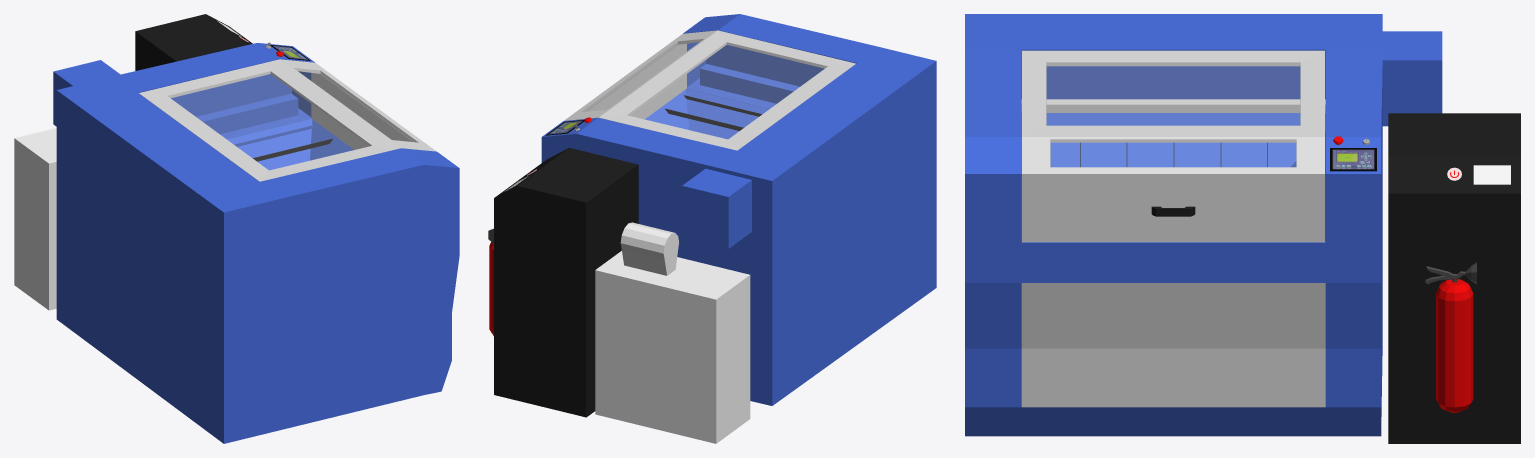
3 views of the same model, side by side, from view 1: azimuth 30°, elevation 25°; view 2: azimuth 150°, elevation 25°; view 3: azimuth 270°, elevation 25° (orthographic). The views are drawn at different scales.
Visible parts, largest first — view 1: body, hood, vent, axis_z; view 2: body, vent, hood, axis_z, extinguisher; view 3: body, hood, vent, axis_z, extinguisher, axis_y, panel.
Part boxes in pixels (left/top/right/bottom): body: left=53, top=43, right=459, bottom=443; hood: left=139, top=59, right=436, bottom=181; vent: left=14, top=14, right=252, bottom=310; axis_z: left=227, top=119, right=353, bottom=170; body: left=541, top=14, right=936, bottom=405; vent: left=494, top=147, right=750, bottom=443; hood: left=564, top=30, right=855, bottom=150; axis_z: left=645, top=89, right=769, bottom=139; extinguisher: left=488, top=228, right=493, bottom=335; body: left=965, top=14, right=1442, bottom=436; hood: left=1022, top=50, right=1324, bottom=242; vent: left=1388, top=113, right=1520, bottom=443; axis_z: left=1021, top=131, right=1325, bottom=241; extinguisher: left=1424, top=262, right=1476, bottom=412; axis_y: left=1021, top=99, right=1325, bottom=112; panel: left=1330, top=148, right=1376, bottom=171.
Bounding box in the file's own units: 1.19 × 1.04 × 1.78.
16 materials, 1 textured.
